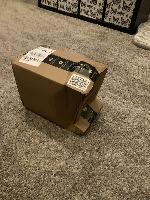undamaged: (7, 44, 111, 137)
